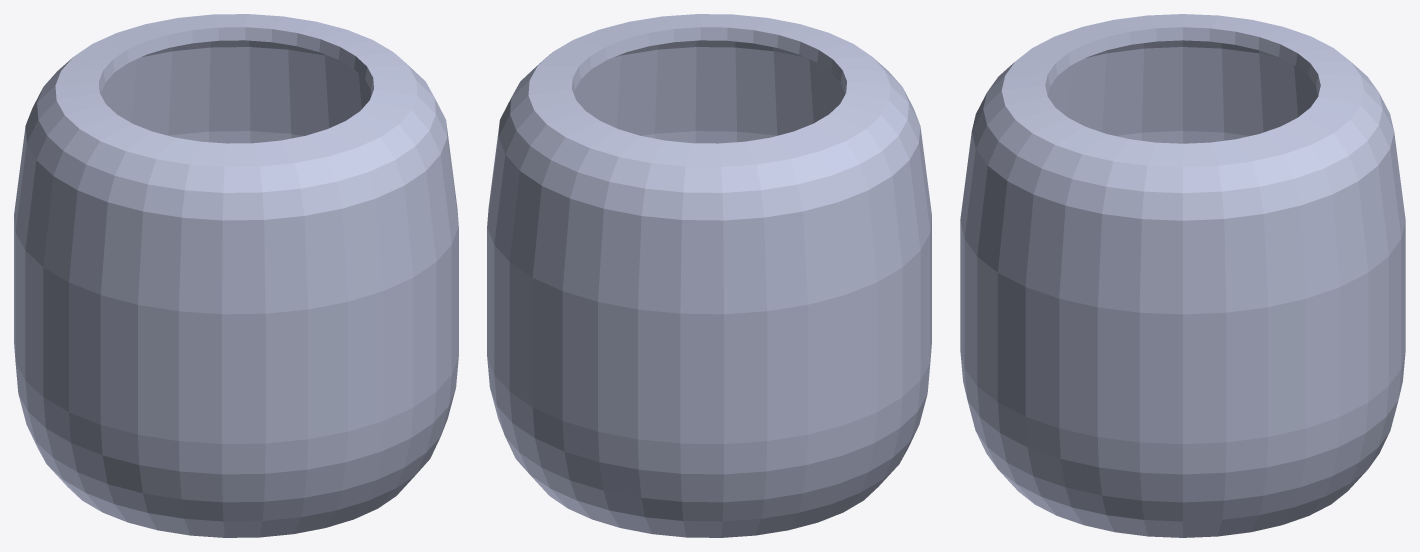
The model's file is Bottle_collector.fbx.
3 renders of one model, left to right at view 1: azimuth 30°, elevation 25°; view 2: azimuth 150°, elevation 25°; view 3: azimuth 270°, elevation 25°, orthographic.
Visible parts, largest first — view 1: Bottle; view 2: Bottle; view 3: Bottle.
Part boxes in pixels (x1,y1,x2,y2): Bottle: [14, 14, 458, 537]; Bottle: [487, 14, 931, 537]; Bottle: [960, 14, 1405, 537].
Bounding box in the file's own units: 2 × 2 × 2.
